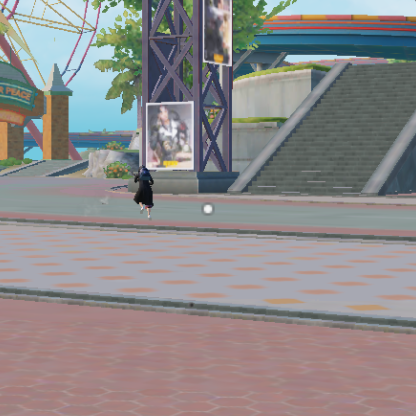ren: (151, 103, 186, 164), (133, 164, 155, 220)
tou: (157, 105, 171, 123), (138, 165, 148, 173)
